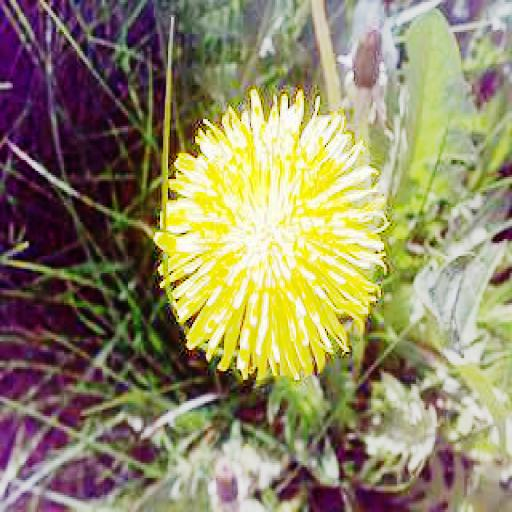dandelion: (158, 90, 392, 384)
